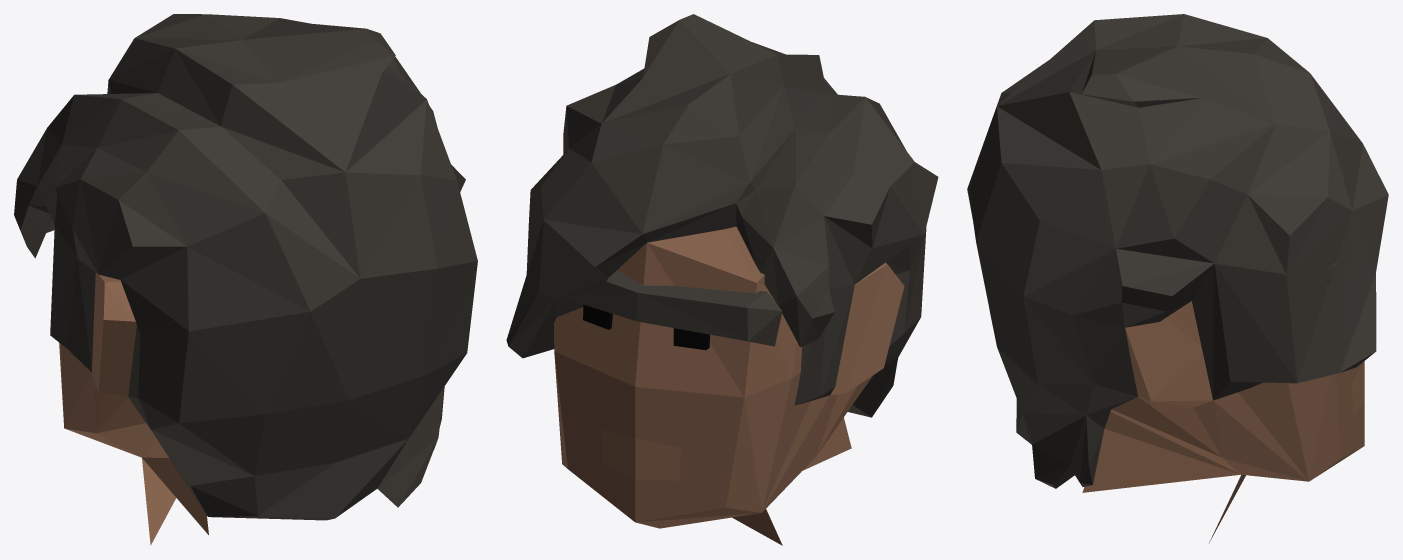
The model's file is Head.obj.
3 views of the same model, side by side, from view 1: azimuth 30°, elevation 25°; view 2: azimuth 150°, elevation 25°; view 3: azimuth 270°, elevation 25° (orthographic). The views are drawn at different scales.
Bounding box in the file's own units: 0.2892 × 0.3788 × 0.3056.
Materials: 1 (1 with a texture image).
